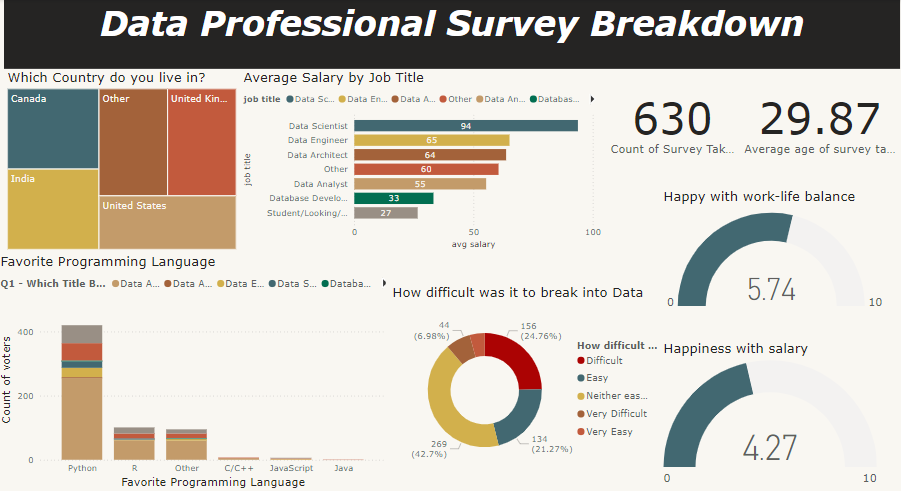

This screenshot's page, from the dashboard's own definition file:
{"tool":"powerbi","page":{"name":"Page 1","canvas":[1280,720],"ordinal":0},"visuals":[{"type":"textbox","box":[10.1,0,1269.9,99.1],"z":0},{"type":"card","fields":{"Values":["Count(Data Professional Survey.Unique ID)"]},"box":[861.7,99.1,191.5,151.2],"z":1000},{"type":"card","fields":{"Values":["Avg(Data Professional Survey.Q10 - Current Age)"]},"box":[1053.2,99.1,226.8,151.2],"z":2000},{"type":"barChart","title":"Average Salary by Job Title","fields":{"Category":["Data Professional Survey.Q1 - Which Title Best Fits your Current Role?.1"],"Y":["Avg(Data Professional Survey.avg salary)"],"Series":["Data Professional Survey.Q1 - Which Title Best Fits your Current Role?.1"]},"box":[344.2,99.4,517,260.6],"z":3000},{"type":"columnChart","title":"Favorite Programming Language","fields":{"Category":["Data Professional Survey.Q5 - Favorite Programming Language.1"],"Y":["CountNonNull(Data Professional Survey.Unique ID)"],"Series":["Data Professional Survey.Q1 - Which Title Best Fits your Current Role?.1"]},"box":[0,360,555.8,338.4],"z":4000},{"type":"treemap","title":"Which Country do you live in?","fields":{"Group":["Data Professional Survey.Q11 - Which Country do you live in?.1"],"Values":["Count(Data Professional Survey.Q11 - Which Country do you live in?.1)"]},"box":[10.1,99.4,334.1,260.6],"z":5000},{"type":"gauge","title":"Happy with work-life balance","fields":{"Y":["Avg(Data Professional Survey.Q6 - How Happy are you in your Current Position with the following? (Work/Life Balance))"],"MinValue":["Min(Data Professional Survey.Q6 - How Happy are you in your Current Position with the following? (Work/Life Balance))"],"MaxValue":["Max(Data Professional Survey.Q6 - How Happy are you in your Current Position with the following? (Work/Life Balance))1"]},"box":[940.3,267.8,325.4,184.3],"z":6000},{"type":"gauge","title":"Happiness with salary","fields":{"Y":["Avg(Data Professional Survey.Q6 - How Happy are you in your Current Position with the following? (Salary))"],"MinValue":["Min(Data Professional Survey.Q6 - How Happy are you in your Current Position with the following? (Salary))"],"MaxValue":["Max(Data Professional Survey.Q6 - How Happy are you in your Current Position with the following? (Salary))"]},"box":[940.3,483.8,312.5,214.6],"z":7000},{"type":"donutChart","title":"How difficult was it to break into Data","fields":{"Y":["CountNonNull(Data Professional Survey.Q7 - How difficult was it for you to break into Data?)"],"Series":["Data Professional Survey.Q7 - How difficult was it for you to break into Data?"]},"box":[555.8,404.6,384.5,277.9],"z":8000}]}

Visuals, with their boxes on the page's 1280x720 design canvas (x1, y1, x2, y2). These are canvas units, not pixel positions in the 901x491 screenshot, which may show the page scaled, cropped or inside an application window:
textbox: rect(10, 0, 1280, 99)
card - Count(Data Professional Survey.Unique ID): rect(862, 99, 1053, 250)
card - Avg(Data Professional Survey.Q10 - Current Age): rect(1053, 99, 1280, 250)
"Average Salary by Job Title" barChart: rect(344, 99, 861, 360)
"Favorite Programming Language" columnChart: rect(0, 360, 556, 698)
"Which Country do you live in?" treemap: rect(10, 99, 344, 360)
"Happy with work-life balance" gauge: rect(940, 268, 1266, 452)
"Happiness with salary" gauge: rect(940, 484, 1253, 698)
"How difficult was it to break into Data" donutChart: rect(556, 405, 940, 682)
